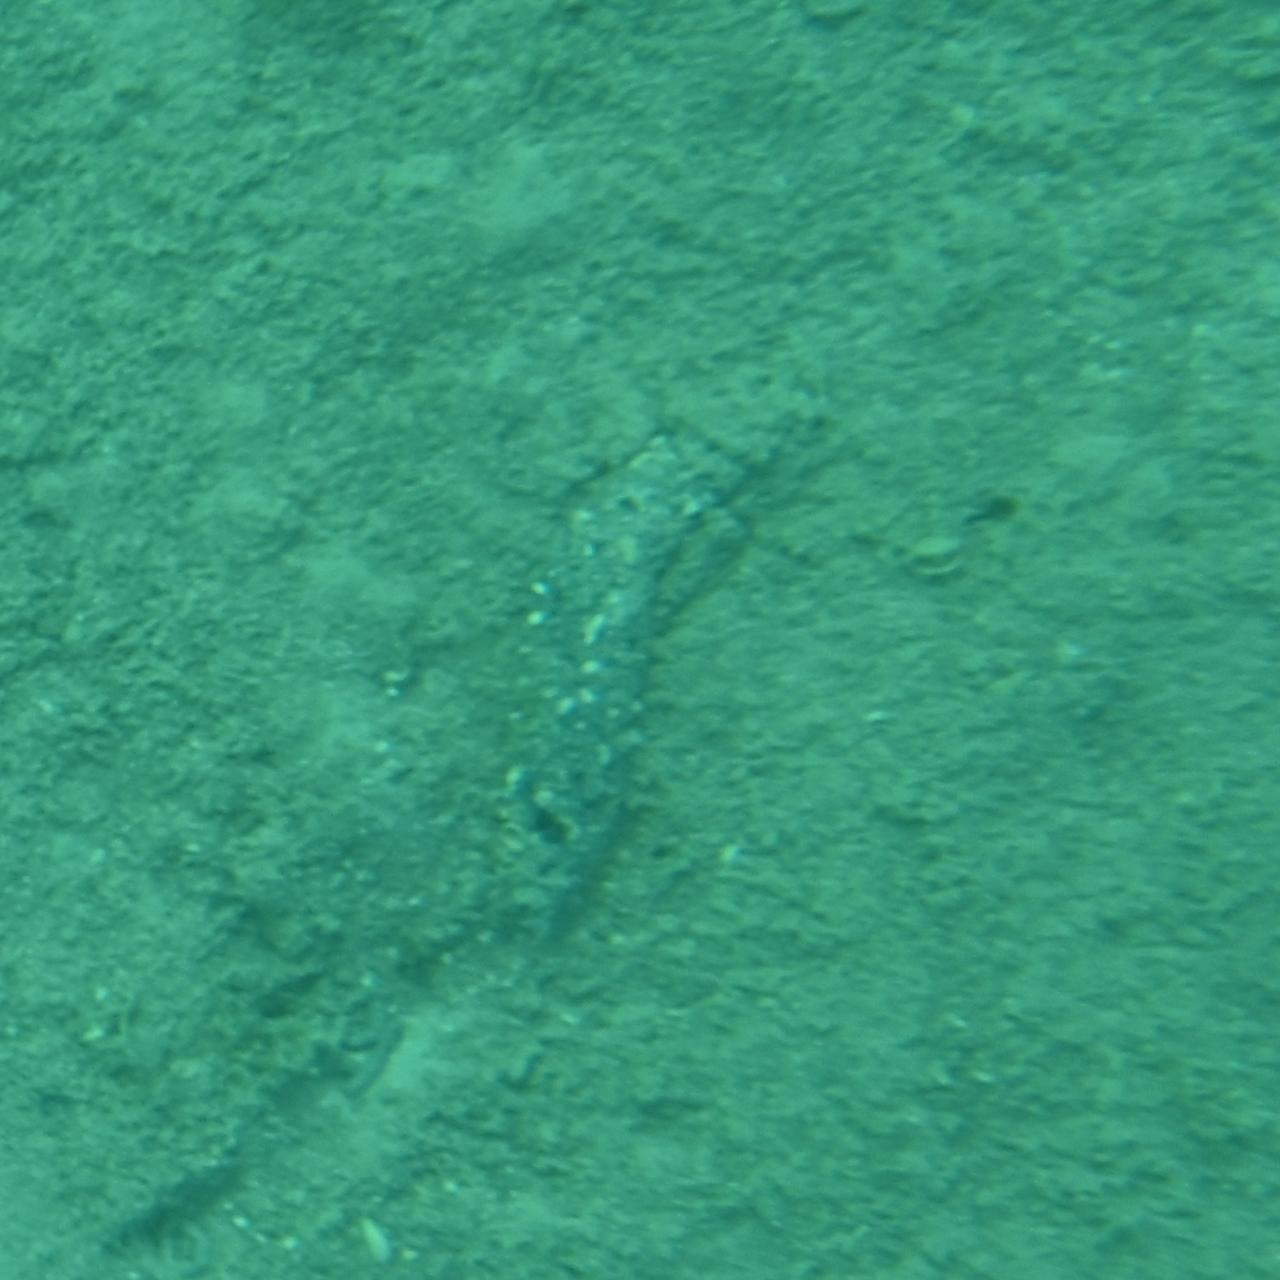Holothuria tubulosa: (489, 315, 791, 965)
